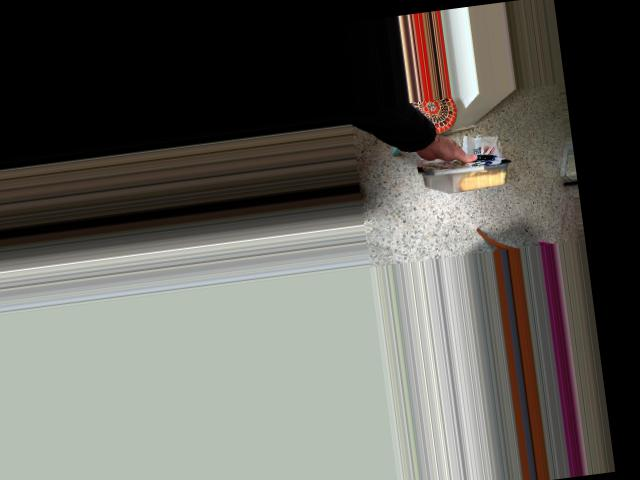cheese: (404, 100, 513, 205)
